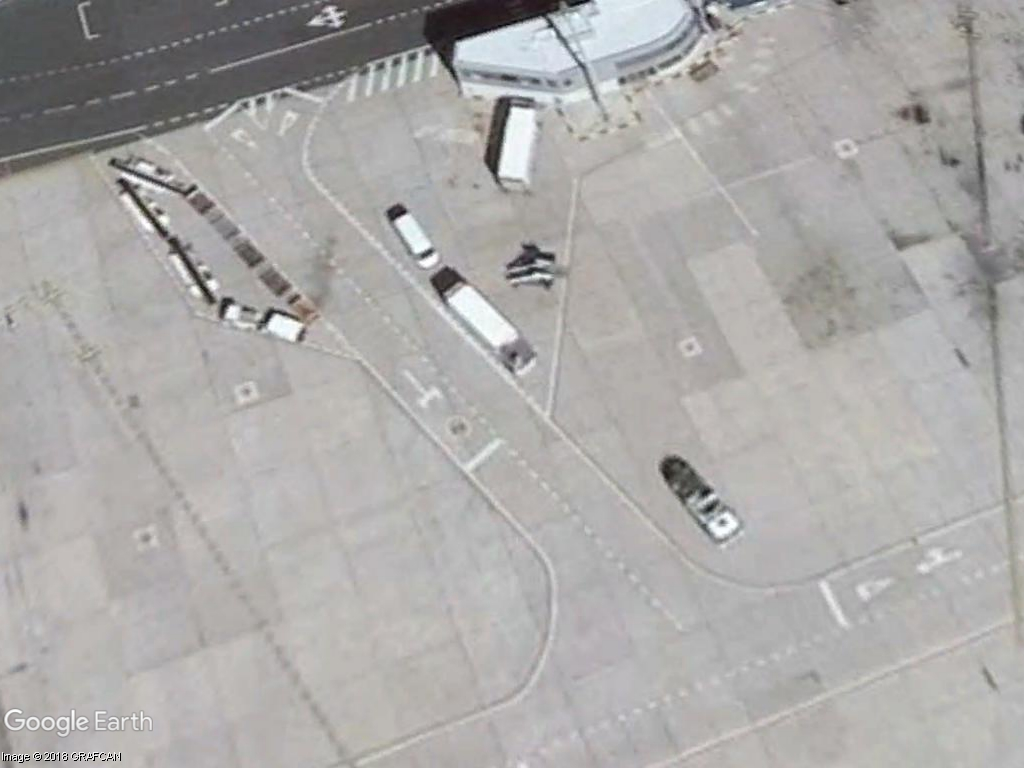truck: (436, 273, 545, 381), (492, 94, 545, 198)
van: (378, 208, 443, 269)
